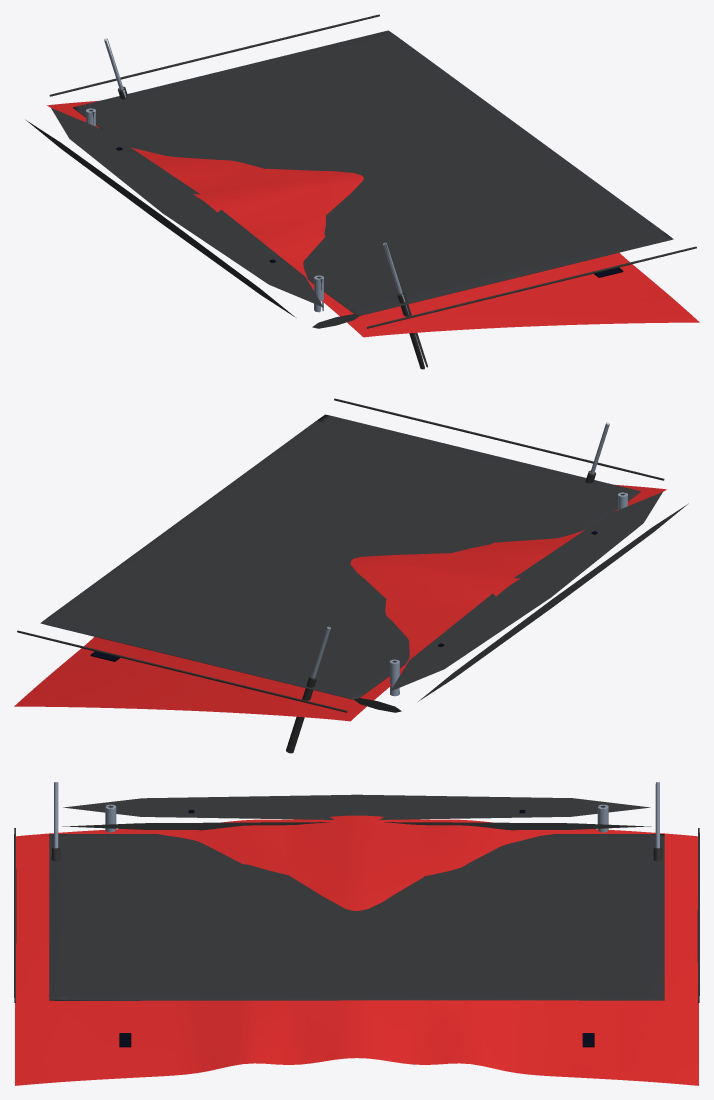
Rendered from ford_escort_rs_cosworth_gt3_hood_closed.glb.
3 renders of one model, top to bottom at view 1: azimuth 30°, elevation 25°; view 2: azimuth 150°, elevation 25°; view 3: azimuth 270°, elevation 25°, orthographic. The views are drawn at different scales.
Parts seen in each view (by area): view 1: Block04_ProductionSculptedHood; view 2: Block04_ProductionSculptedHood; view 3: Block04_ProductionSculptedHood.
Boxes of the visible parts, box(x1,y1,x2,y2) form: Block04_ProductionSculptedHood: box(25, 14, 699, 369); Block04_ProductionSculptedHood: box(14, 398, 688, 753); Block04_ProductionSculptedHood: box(14, 782, 699, 1085).
Bounding box in the file's own units: 0.8599 × 0.2967 × 1.24.
